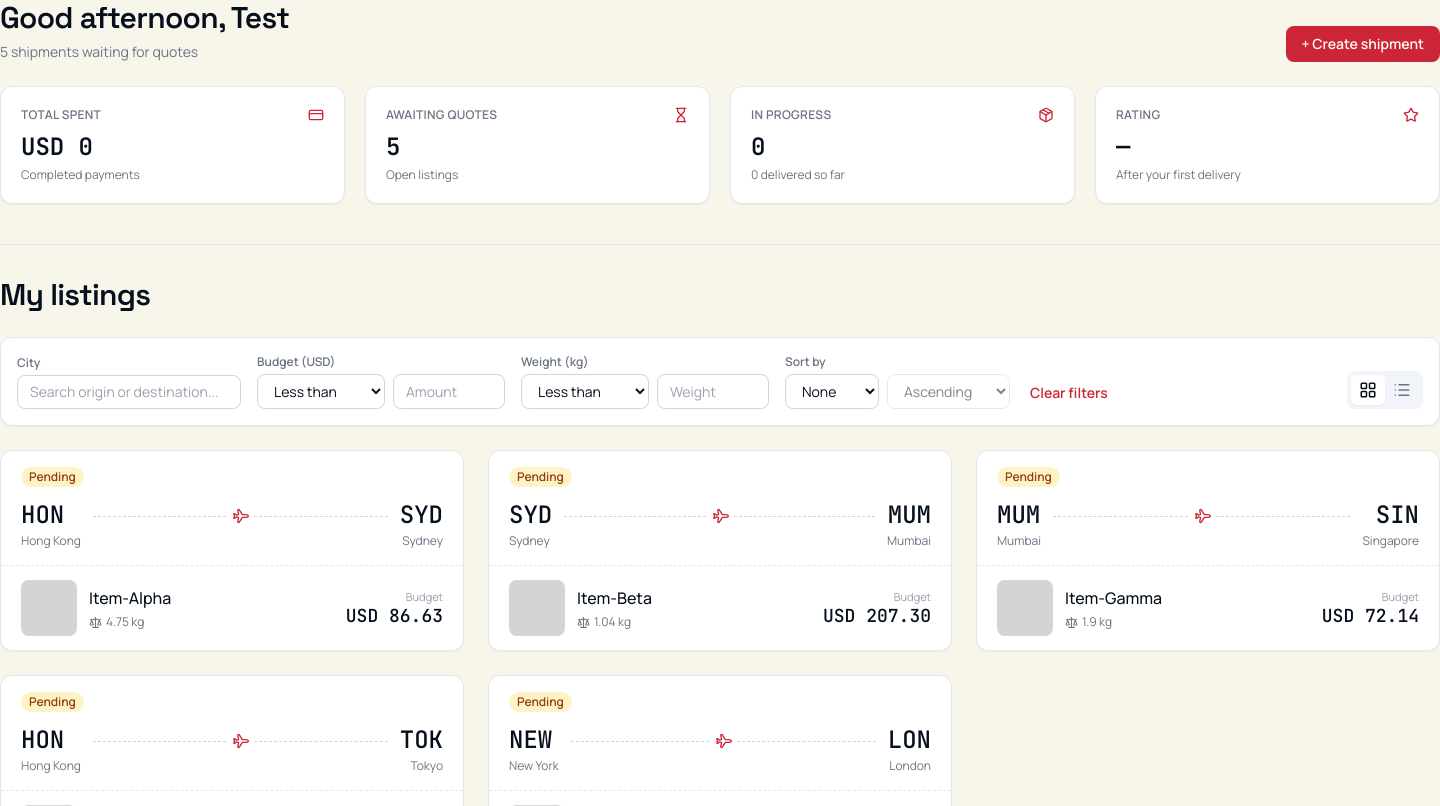
Test: shipment side panel › clicking a grid card opens the side panel
The width and height of the screenshot is (1440, 806).
Expected: the text "Item-Alpha" is shown, [89,587,171,609]
Click the text "Item-Gamma" at x=1114, y=598, box [1065,587,1162,609]
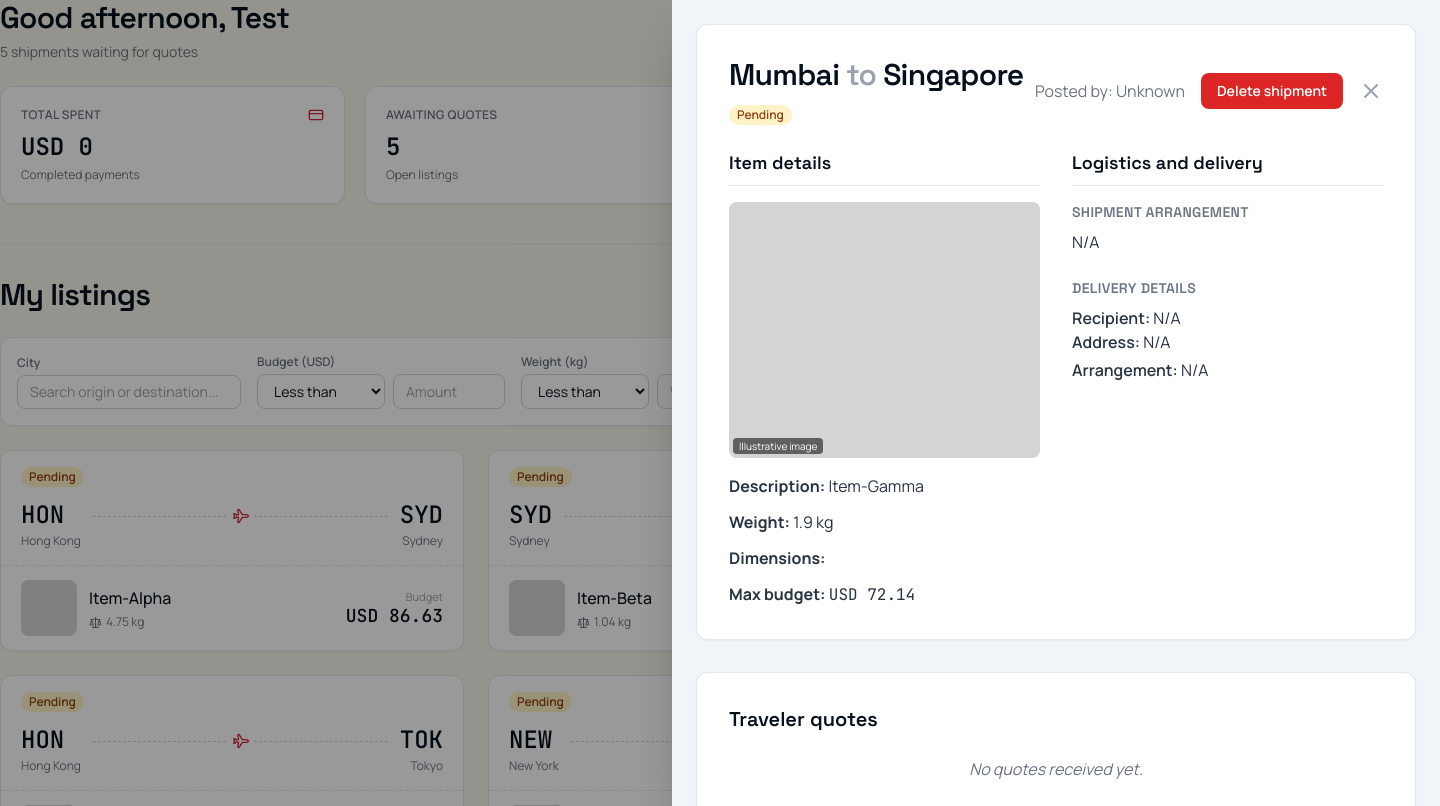
Result: the heading "Item details" is shown at [729,149,1040,186]
